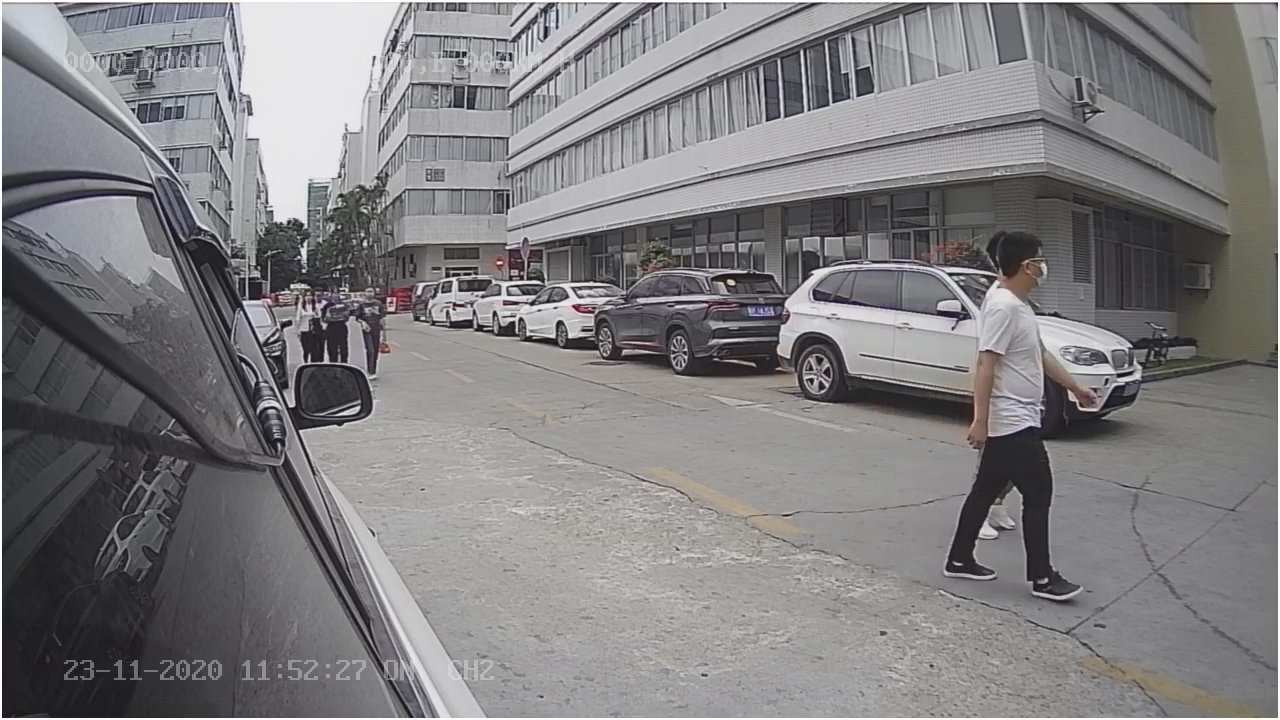person: (971, 225, 1067, 609)
